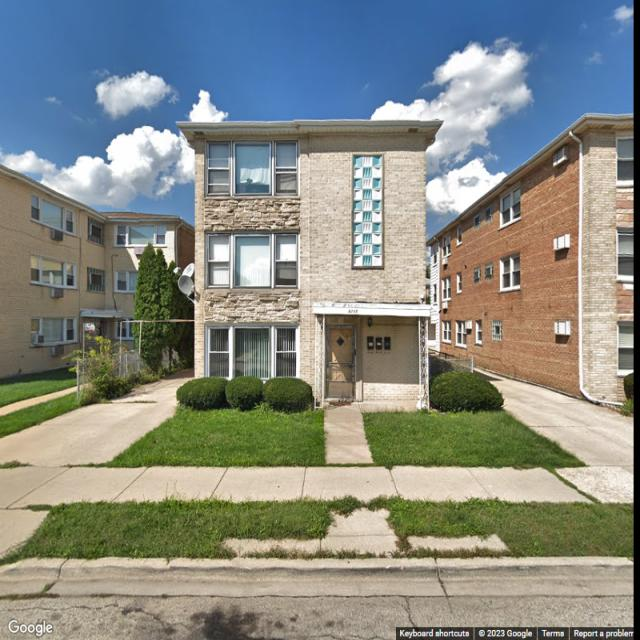House: (172, 117, 446, 414), (426, 115, 634, 409), (0, 164, 194, 382)
